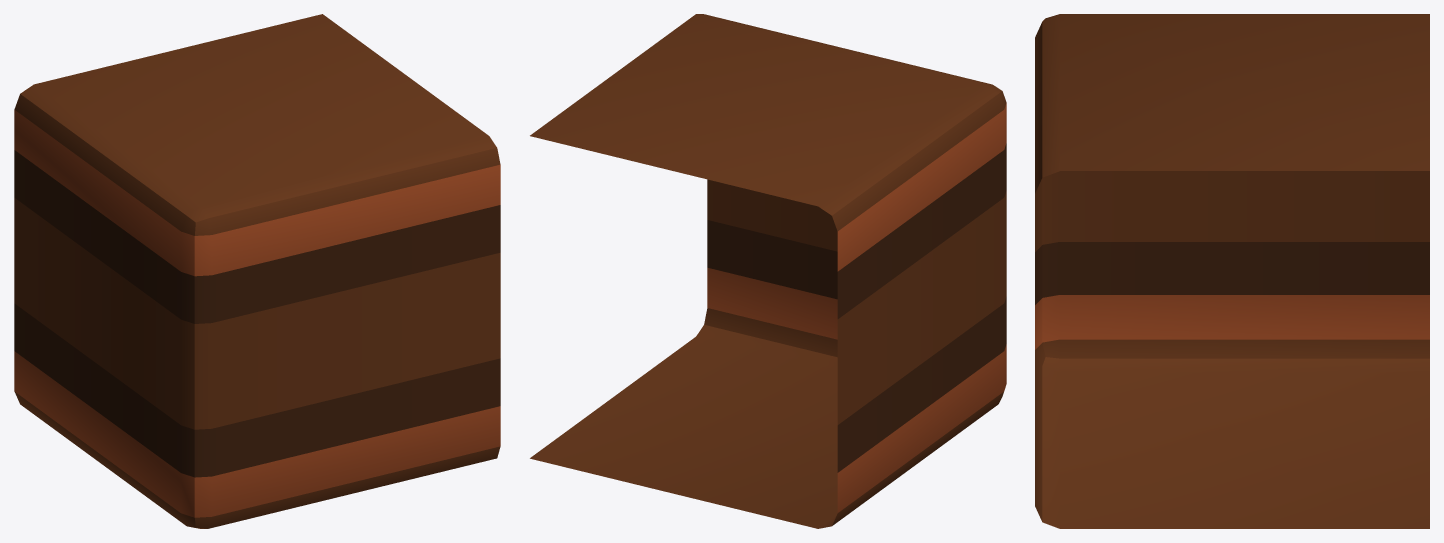
File: Cube_Dirt_Corner.fbx
3 views of the same model, side by side, from view 1: azimuth 30°, elevation 25°; view 2: azimuth 150°, elevation 25°; view 3: azimuth 270°, elevation 25° (orthographic). The views are drawn at different scales.
Parts seen in each view (by area): view 1: Cube_Dirt_Corner; view 2: Cube_Dirt_Corner; view 3: Cube_Dirt_Corner.
Boxes of the visible parts, left/top/right/bottom form: Cube_Dirt_Corner: left=14, top=14, right=500, bottom=528; Cube_Dirt_Corner: left=530, top=14, right=1006, bottom=528; Cube_Dirt_Corner: left=1035, top=14, right=1429, bottom=528.
Bounding box in the file's own units: 200 × 200 × 200.
